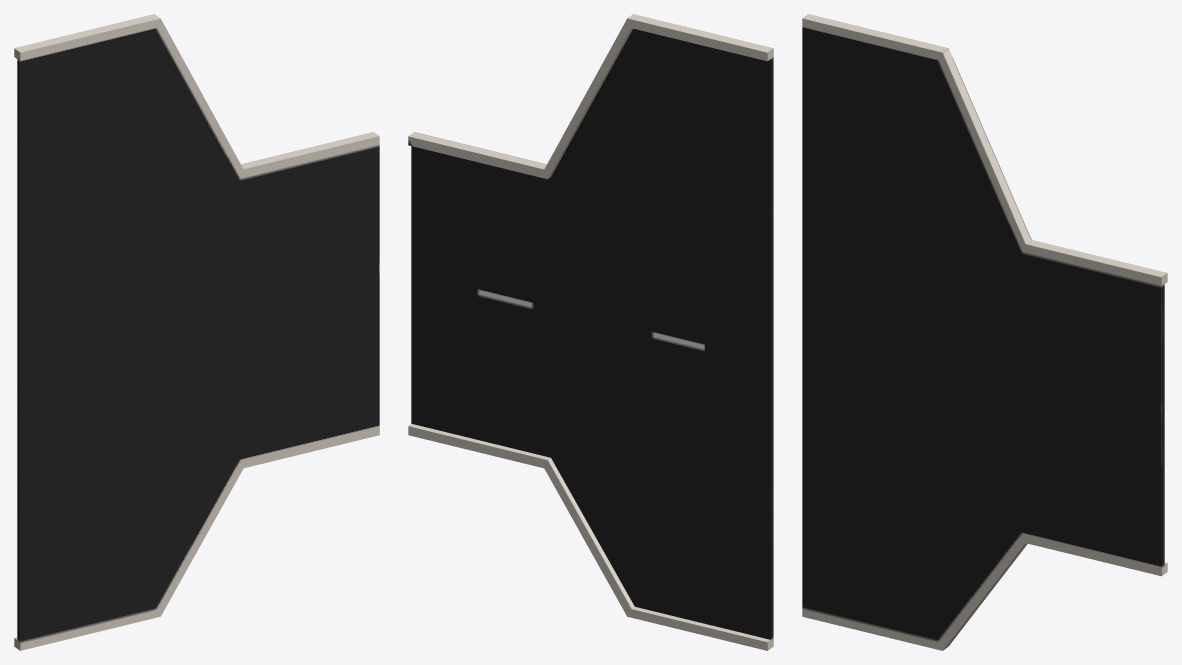
The model's file is road-y-path.obj.
3 renders of one model, left to right at view 1: azimuth 30°, elevation 25°; view 2: azimuth 150°, elevation 25°; view 3: azimuth 330°, elevation 25°, orthographic.
Visible parts, largest first — view 1: road-y-path_Plane.051; view 2: road-y-path_Plane.051; view 3: road-y-path_Plane.051.
Part boxes in pixels (bbox=[...]): road-y-path_Plane.051: bbox=[14, 14, 379, 650]; road-y-path_Plane.051: bbox=[408, 14, 773, 650]; road-y-path_Plane.051: bbox=[802, 14, 1167, 650].
Size of the model in its own units: 5.07 by 8.06 by 0.15.
